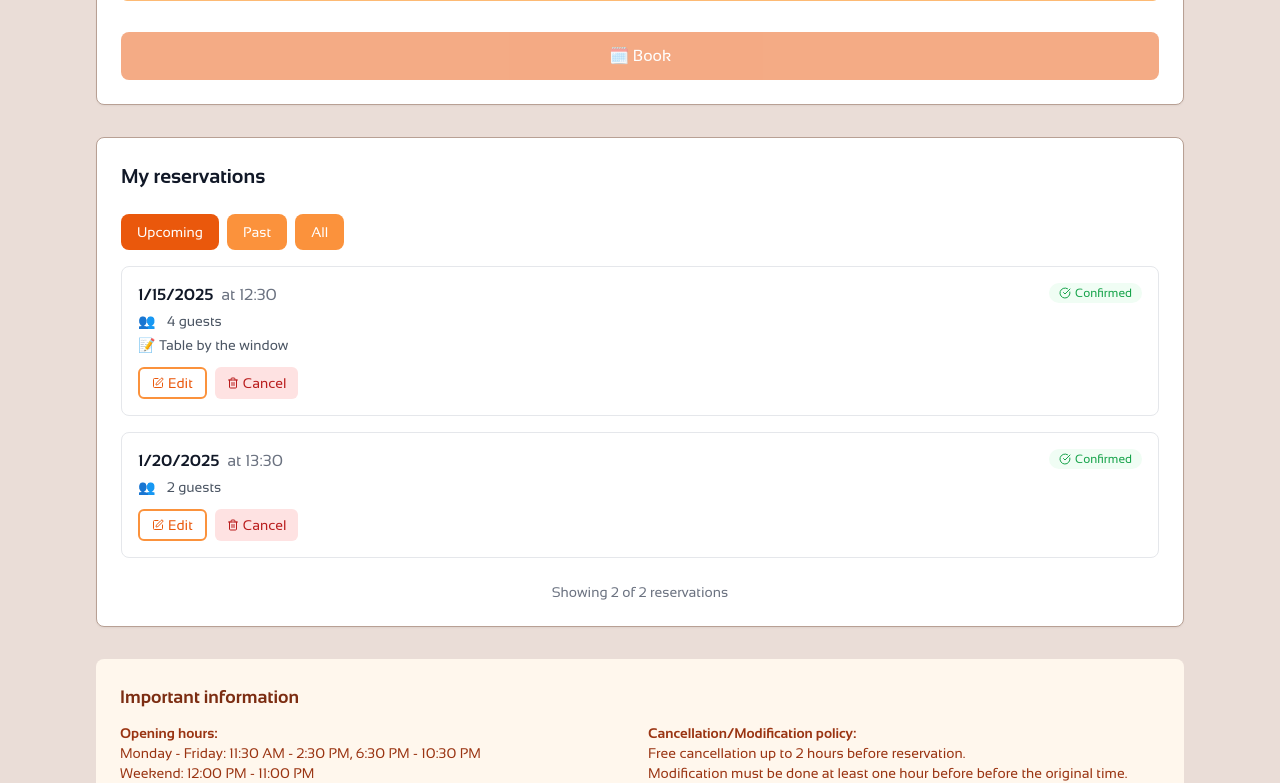
it: Reservations Component › should enter edit mode when user clicks modify button
(page scrolled)
# Click modify button for first reservation
Click the button "Edit" below "Table by the window" at [172, 383], box [138,367,207,399]
(page scrolled)
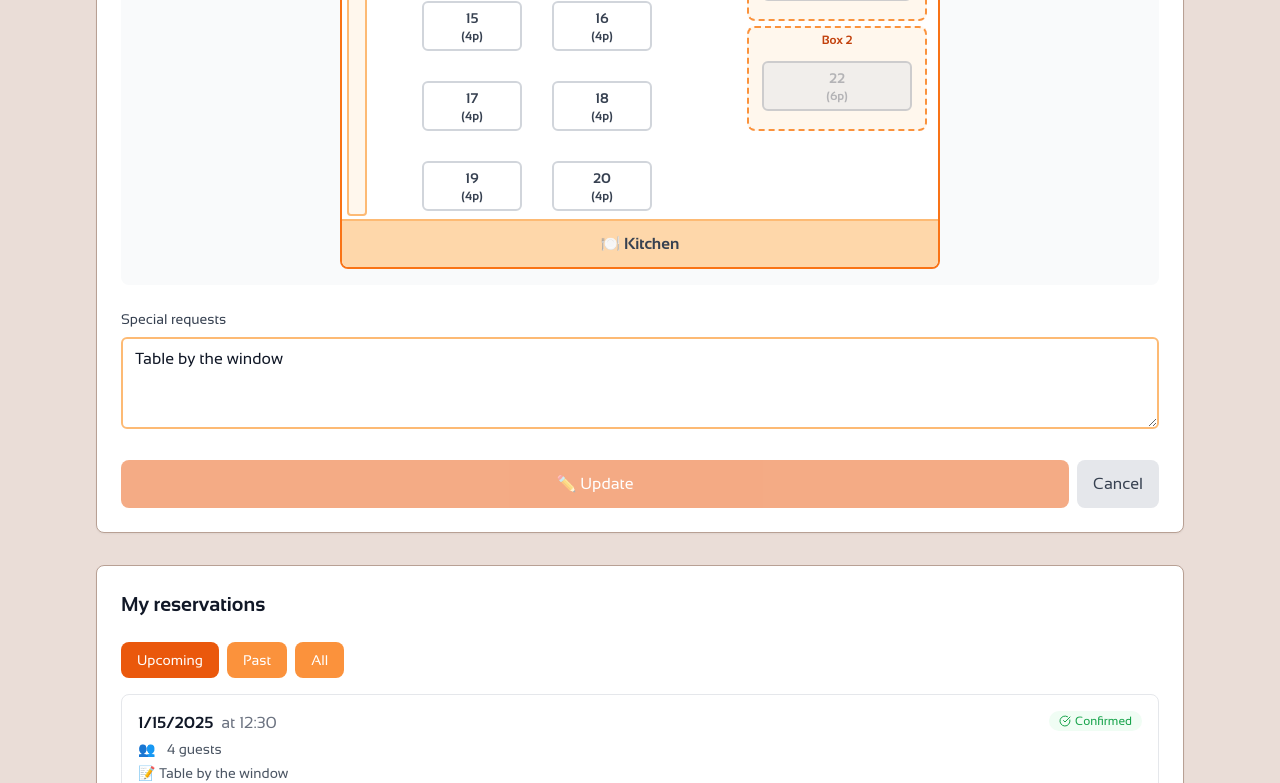
Expected: the button "✏️ Update" is shown, [121,460,1069,508]
Expected: the button "Cancel" is shown, [1077,460,1159,508]
Expected: the text box with placeholder "Allergies, table preferences, special occasion..." holds "Table by the window", [121,337,1159,429]
